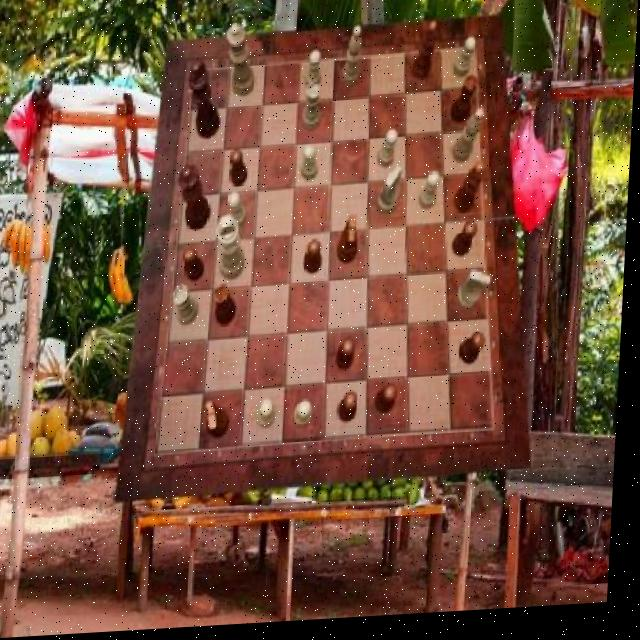bishop: (457, 167, 488, 220), (413, 26, 438, 85)
black-bishop: (186, 60, 223, 143)
black-king: (339, 220, 361, 268), (208, 402, 234, 442)
black-knight: (454, 226, 479, 262), (463, 338, 489, 371), (184, 249, 208, 284), (378, 388, 402, 420), (231, 151, 250, 190), (339, 342, 359, 376), (341, 396, 362, 428), (306, 243, 325, 278)
black-pawn: (178, 167, 214, 234)
black-queen: (451, 81, 479, 129), (216, 285, 240, 329)
black-rook: (453, 114, 485, 170), (341, 31, 363, 93)
white-bishop: (216, 217, 249, 284)
white-king: (458, 276, 494, 318), (380, 172, 405, 220)
white-knight: (453, 42, 478, 83), (419, 176, 441, 215), (378, 133, 400, 172), (229, 194, 250, 231), (301, 149, 319, 186), (305, 54, 322, 93), (298, 403, 318, 432), (261, 402, 280, 431)
white-pawn: (224, 25, 258, 100)
white-queen: (175, 287, 202, 329), (302, 88, 323, 136)
